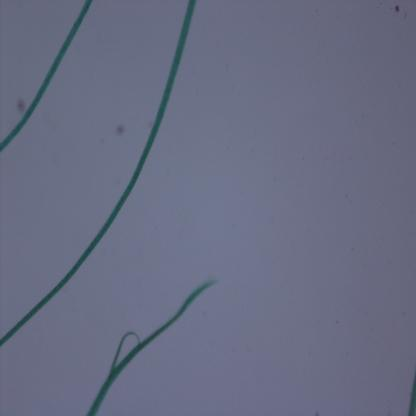Microfibre: (0, 0, 198, 345), (86, 280, 215, 416), (0, 0, 94, 153), (407, 371, 416, 415)
